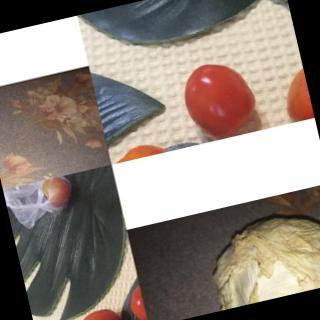Tomat: (162, 46, 275, 150), (272, 59, 315, 125), (65, 293, 125, 320), (114, 280, 148, 320)
